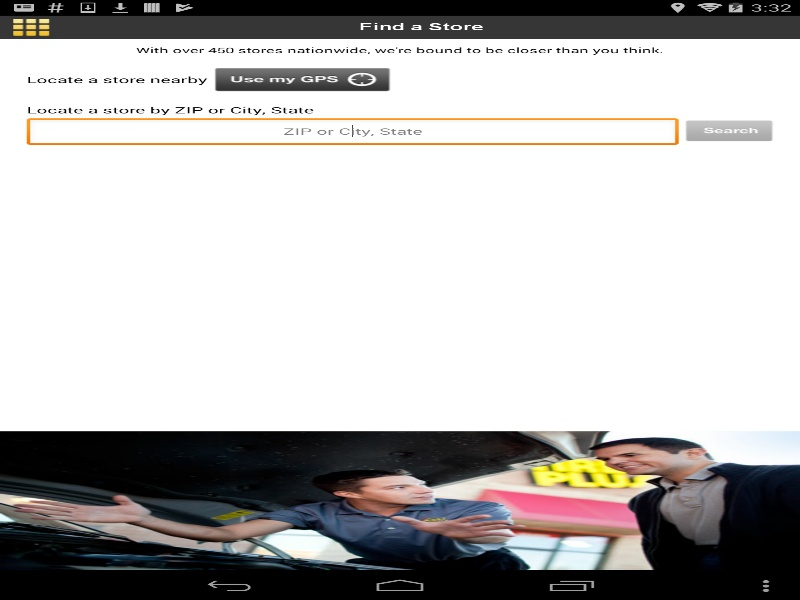Input: (26, 117, 678, 147)
